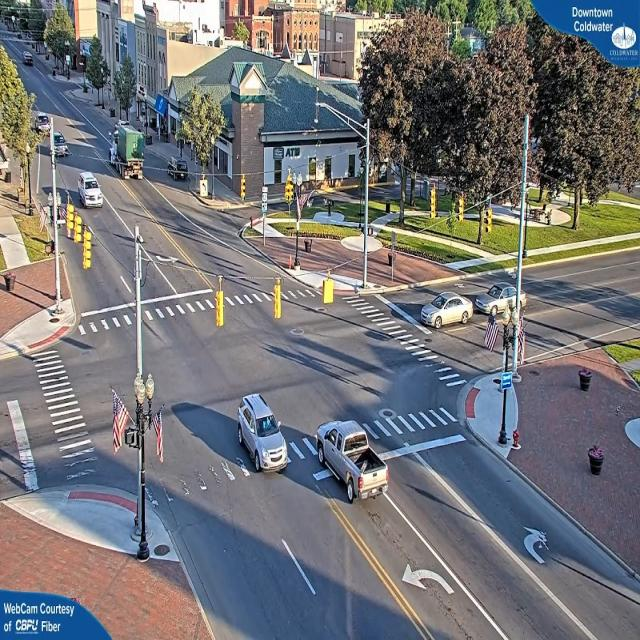car: (316, 421, 385, 507), (234, 394, 290, 475), (418, 289, 474, 327), (476, 283, 524, 317), (77, 174, 103, 210), (52, 130, 69, 159)
